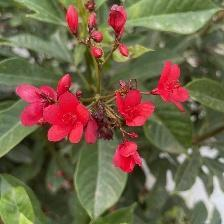jatropha: (43, 92, 91, 146), (116, 87, 157, 129)
